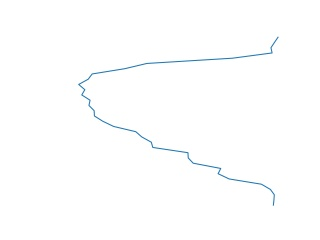mouthBar: (75, 36, 283, 208)
